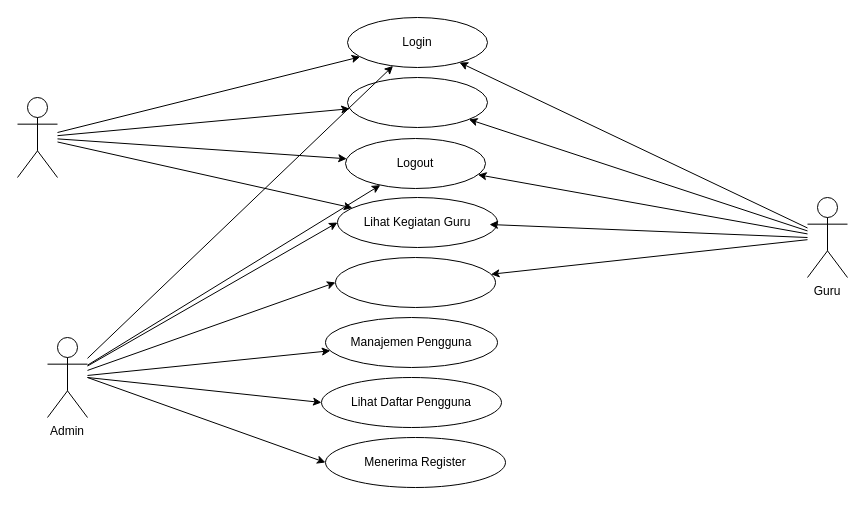
This 865x505 diagram has some shape labels left out. The centre of each missing label's shape, as x and y in pixels:
"CRUD Kegiatan Guru" goes at [415,282].
"Register" goes at [417,102].
"Siswa" goes at [37,137].
